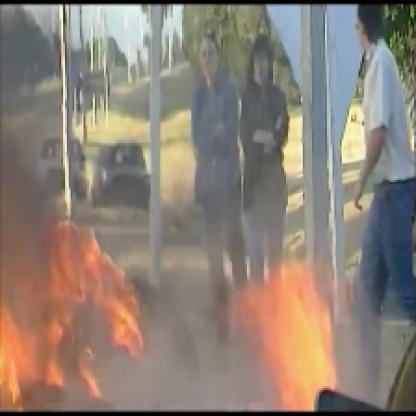Fire: (2, 221, 343, 414)
